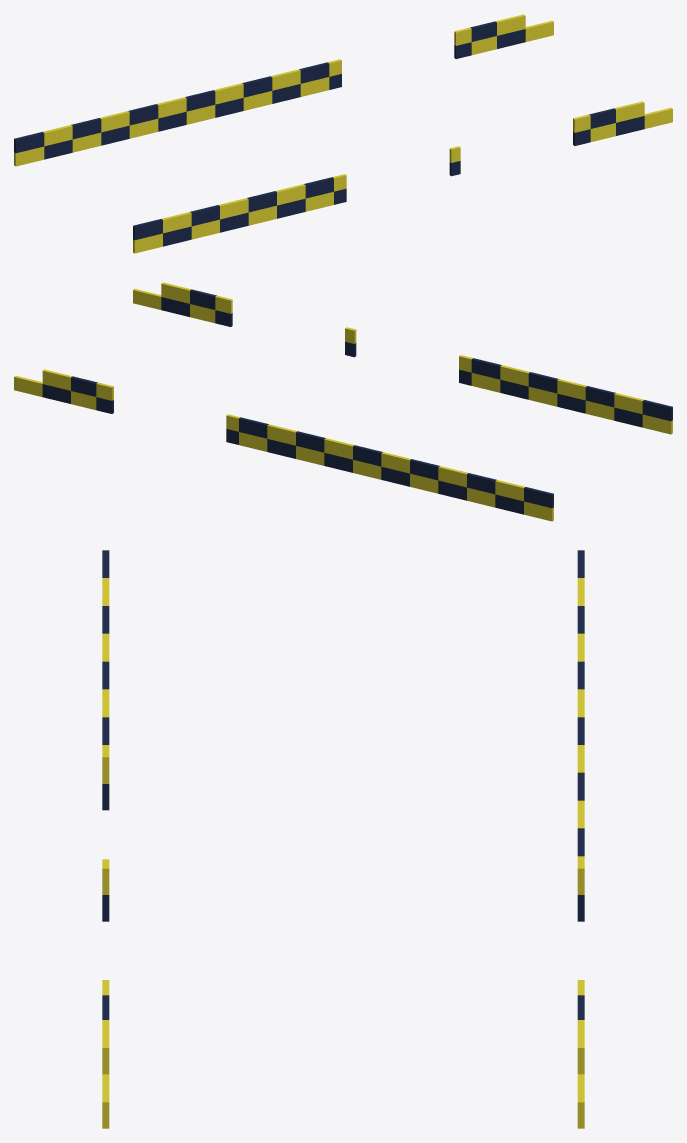
File: riot_van_markings.glb
3 views of the same model, one above another, from view 1: azimuth 30°, elevation 25°; view 2: azimuth 150°, elevation 25°; view 3: azimuth 270°, elevation 25° (orthographic). The views are drawn at different scales.
Visible parts, largest first — view 1: body:compound; view 2: body:compound; view 3: body:compound.
Boxes of the visible parts, x1,y1,x2,y2 form: body:compound: [14, 14, 672, 253]; body:compound: [14, 282, 672, 521]; body:compound: [102, 550, 584, 1128].
Size of the model in its own units: 5.31 by 0.25 by 2.06.
